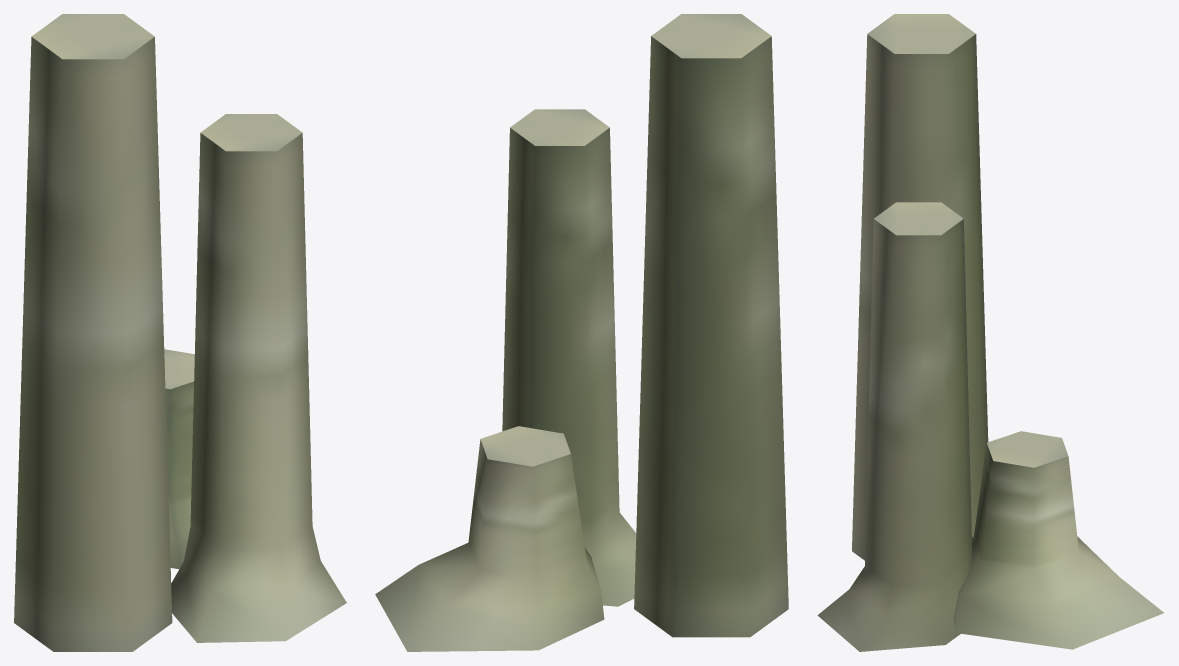
The model's file is xiaowujian_group25.fbx.
3 views of the same model, side by side, from view 1: azimuth 30°, elevation 25°; view 2: azimuth 150°, elevation 25°; view 3: azimuth 270°, elevation 25° (orthographic). The views are drawn at different scales.
Parts seen in each view (by area): view 1: xiaowujian_group25; view 2: xiaowujian_group25; view 3: xiaowujian_group25.
Boxes of the visible parts, bbox=[...] form: xiaowujian_group25: bbox=[14, 14, 346, 651]; xiaowujian_group25: bbox=[375, 14, 788, 651]; xiaowujian_group25: bbox=[817, 14, 1163, 651].
Bounding box in the file's own units: 29.13 × 51.99 × 31.22.
Materials: 1 (1 with a texture image).
